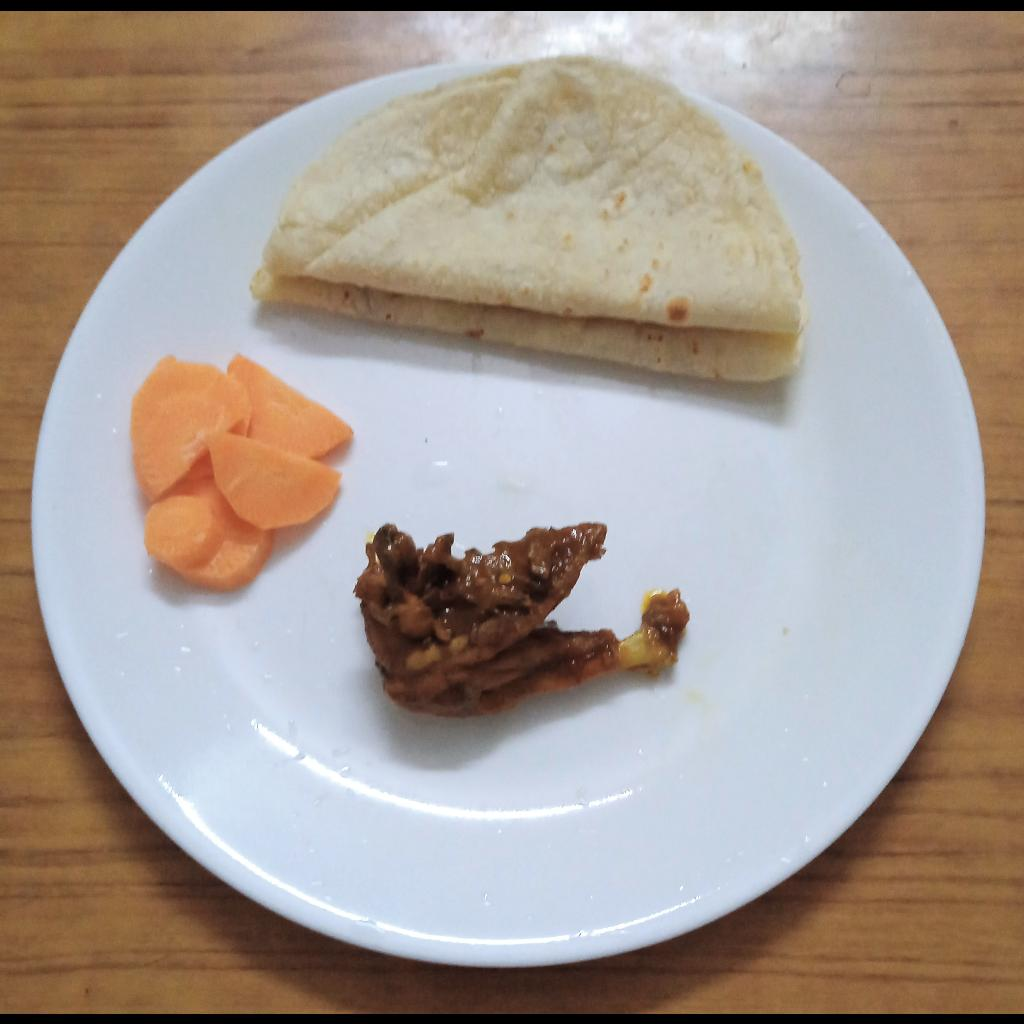carrot: (128, 351, 355, 589)
chicken: (353, 519, 690, 716)
ruti: (244, 55, 806, 379)
